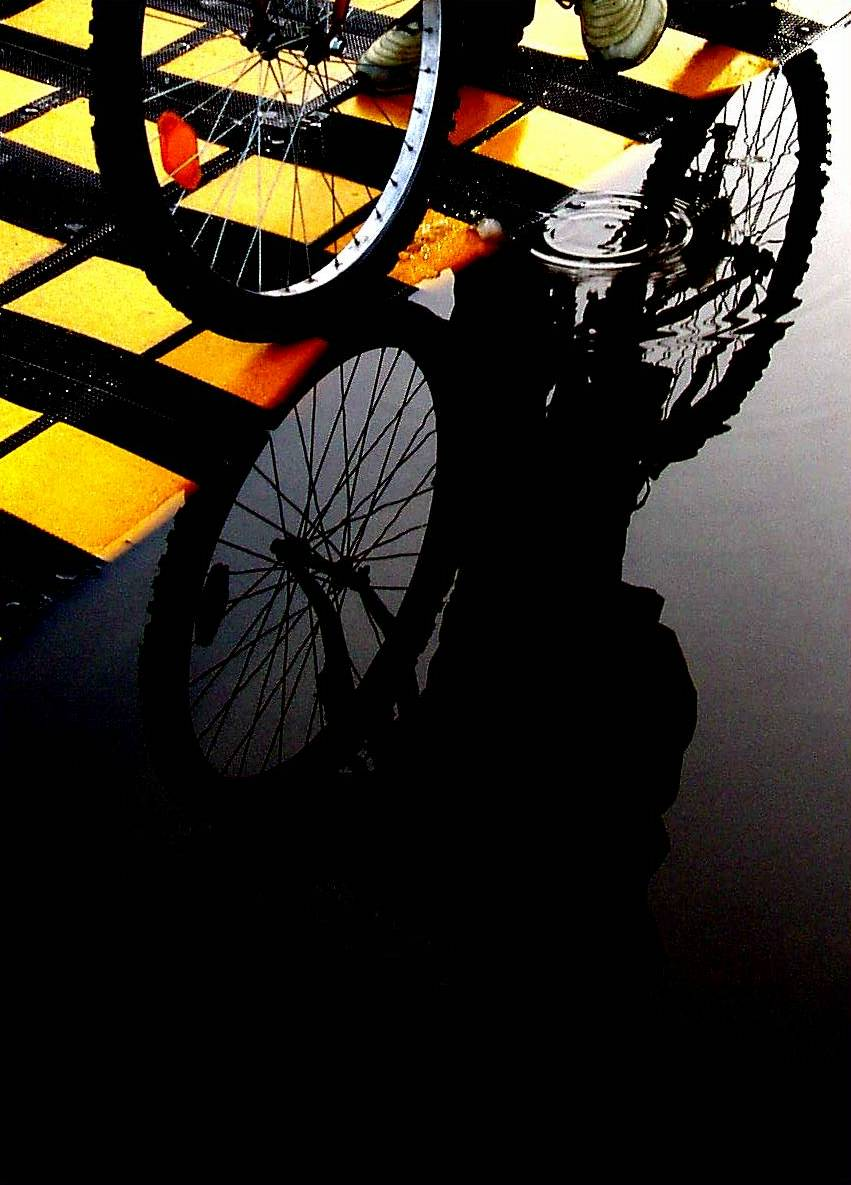Bicycle: (40, 57, 804, 1075)
